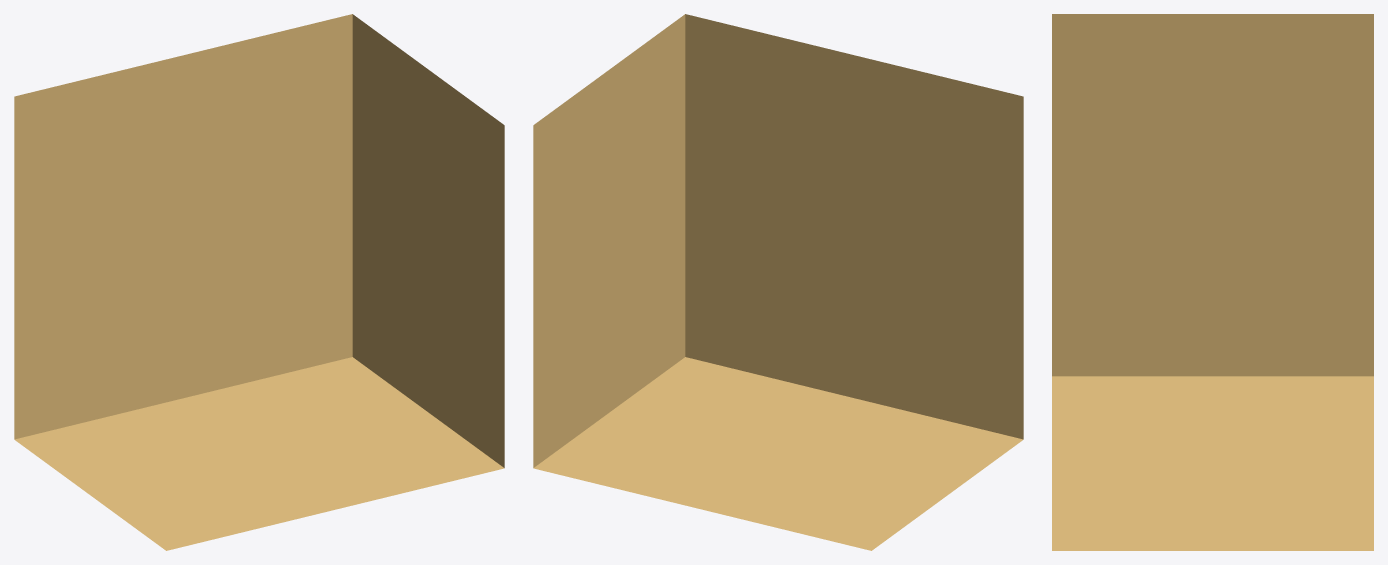
The model's file is decor-props-quantum-garden-023.glb.
3 renders of one model, left to right at view 1: azimuth 30°, elevation 25°; view 2: azimuth 150°, elevation 25°; view 3: azimuth 270°, elevation 25°, orthographic. The views are drawn at different scales.
Parts seen in each view (by area): view 1: Quantum Garden Decor Props; view 2: Quantum Garden Decor Props; view 3: Quantum Garden Decor Props.
Part boxes in pixels (bbox=[...]): Quantum Garden Decor Props: bbox=[14, 14, 504, 550]; Quantum Garden Decor Props: bbox=[533, 14, 1023, 550]; Quantum Garden Decor Props: bbox=[1052, 14, 1373, 550].
Size of the model in its own units: 1.9 by 1.84 by 1.48.
